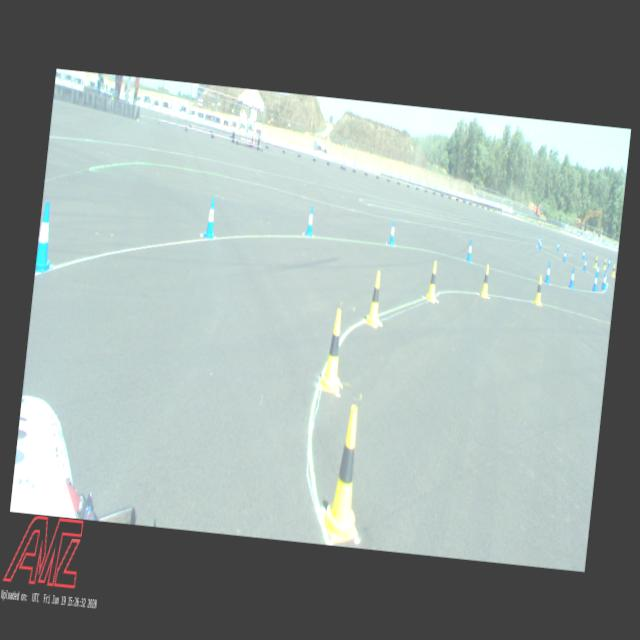blue_cone: (35, 200, 58, 272), (202, 196, 218, 238), (304, 205, 316, 237), (387, 219, 396, 246), (465, 238, 473, 262), (544, 261, 552, 283), (568, 268, 576, 288), (601, 270, 608, 290), (592, 271, 598, 291), (594, 262, 600, 278), (582, 258, 588, 271), (604, 268, 608, 282), (562, 248, 566, 261), (556, 240, 560, 252), (581, 248, 585, 259), (607, 258, 611, 268), (538, 237, 541, 250), (538, 235, 540, 248)
yellow_cone: (320, 402, 370, 545), (318, 307, 349, 392), (364, 268, 385, 328), (425, 260, 440, 302), (480, 262, 492, 298), (533, 274, 545, 305), (611, 264, 616, 276), (594, 256, 598, 267), (602, 258, 606, 268)
